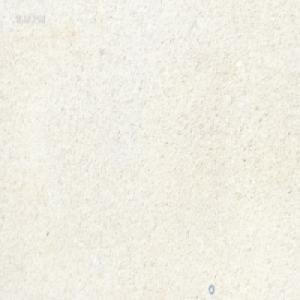Washer: (207, 283, 214, 294)
